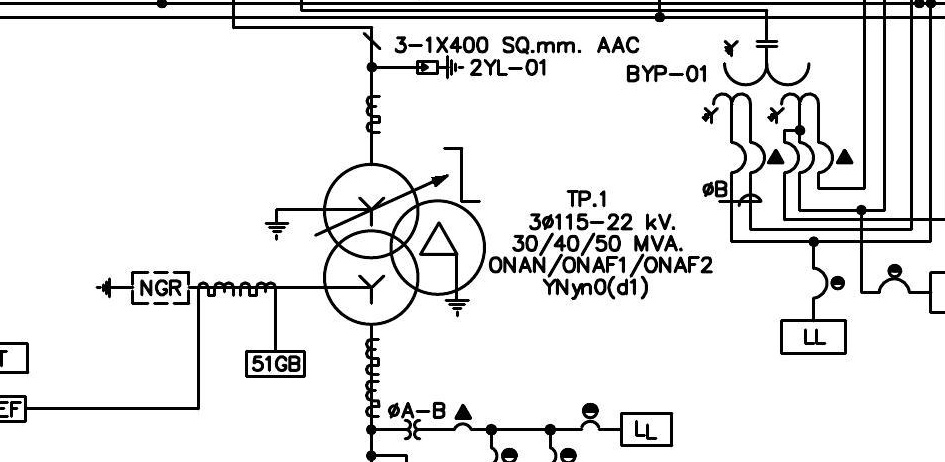11522_tx_ynyn0d1: (321, 162, 487, 327)
115_cvt_3p: (701, 40, 821, 125)
115_la: (416, 54, 465, 80)
LL: (780, 319, 847, 355), (620, 412, 673, 448)
NGR_future: (95, 271, 190, 305)
